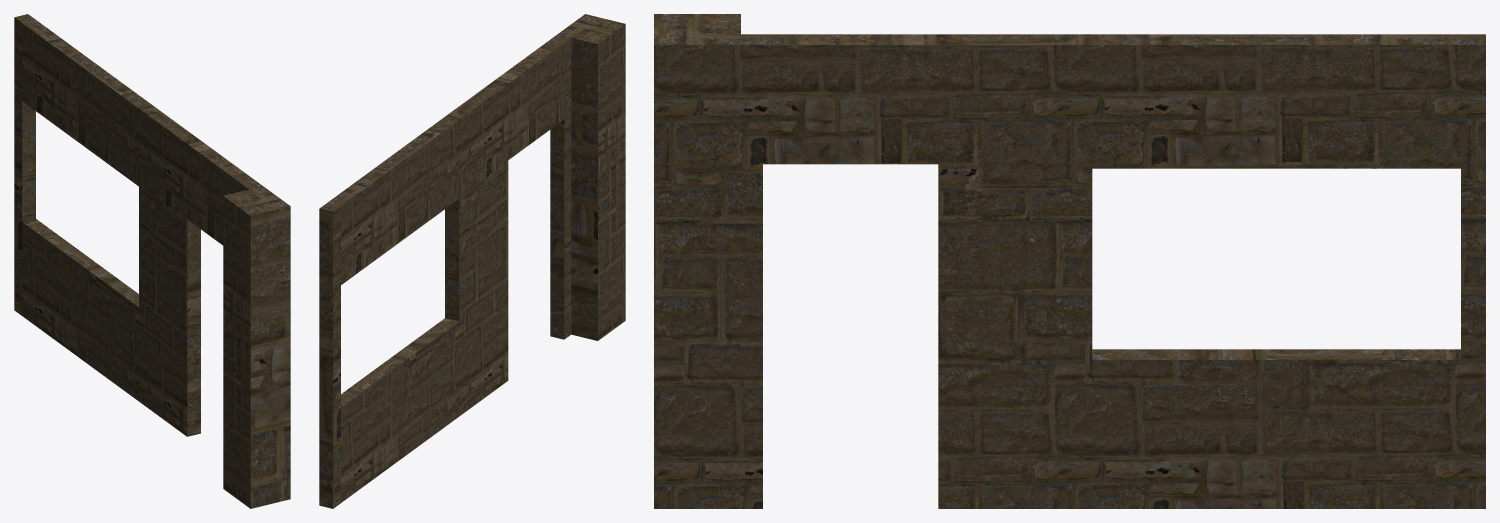
3 renders of one model, left to right at view 1: azimuth 30°, elevation 25°; view 2: azimuth 150°, elevation 25°; view 3: azimuth 270°, elevation 25°, orthographic. The views are drawn at different scales.
Visible parts, largest first — view 1: S_013; view 2: S_013; view 3: S_013.
Part boxes in pixels (left/top/right/bottom): S_013: left=14, top=14, right=290, bottom=508; S_013: left=319, top=14, right=625, bottom=508; S_013: left=654, top=14, right=1485, bottom=508.
Size of the model in its own units: 62.55 by 438 by 712.
Materials: 1 (1 with a texture image).
